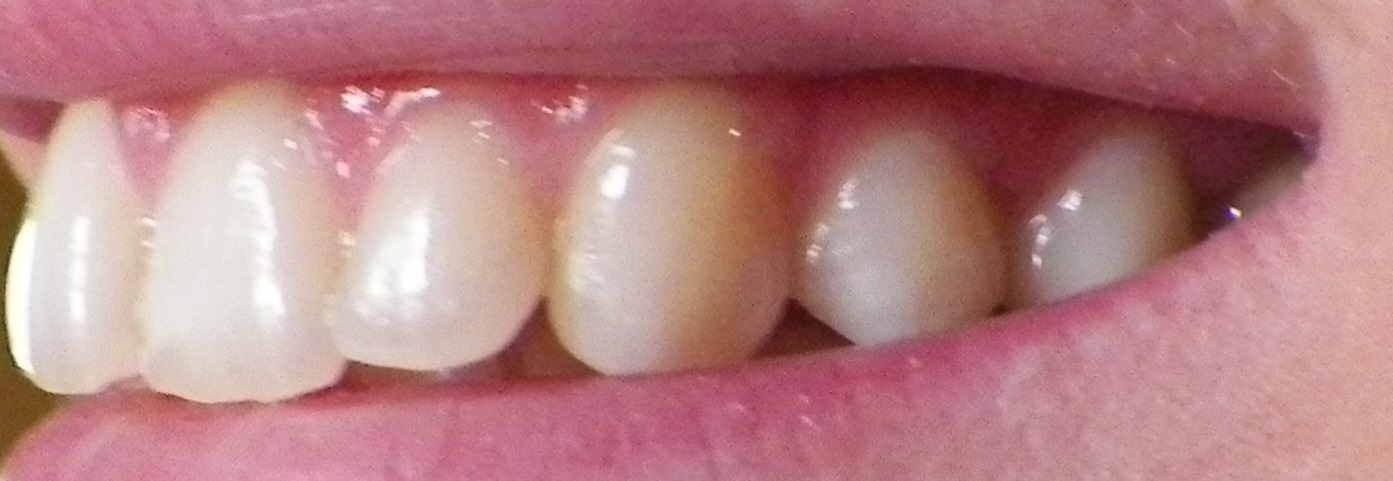boca: (12, 85, 1248, 401)
